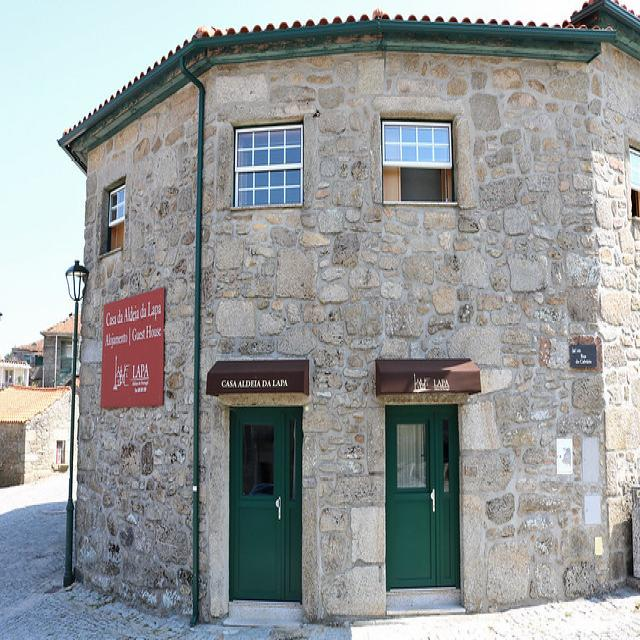building: (51, 10, 636, 627)
